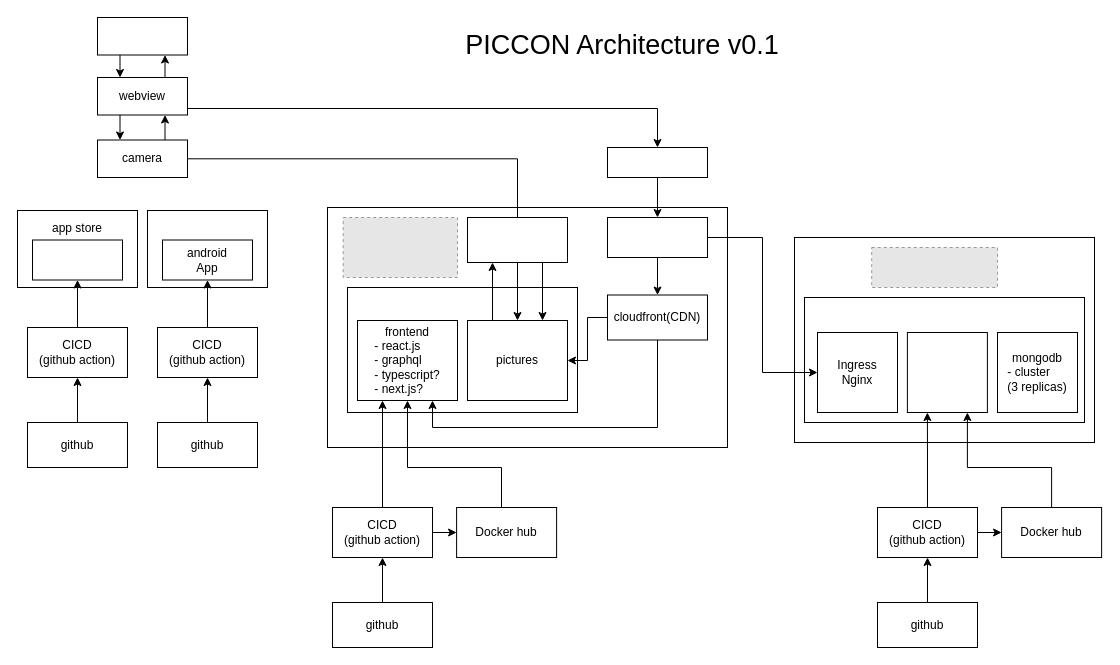
Some shapes in this 1120 by 665 pixel diagram are drawn without their labels. Grey dashed boxes stand in for pictures. Here are the shapes that lost their labels. From the top down, the box of each, then its label:
(96, 16, 188, 55): kakao auth
(606, 146, 708, 178): DNS
(146, 210, 268, 288): play store
(466, 216, 568, 262): lambda (resize)
(606, 216, 708, 258): route 53
(32, 239, 122, 280): iOS App
(346, 286, 578, 412): S3
(804, 296, 1084, 422): Kubernetes
(906, 332, 987, 412): backend - replica 1 - node.js - graphql - typescript
